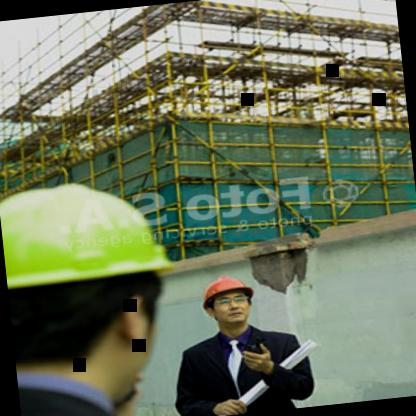helmet: (0, 140, 206, 403), (191, 262, 263, 334)
